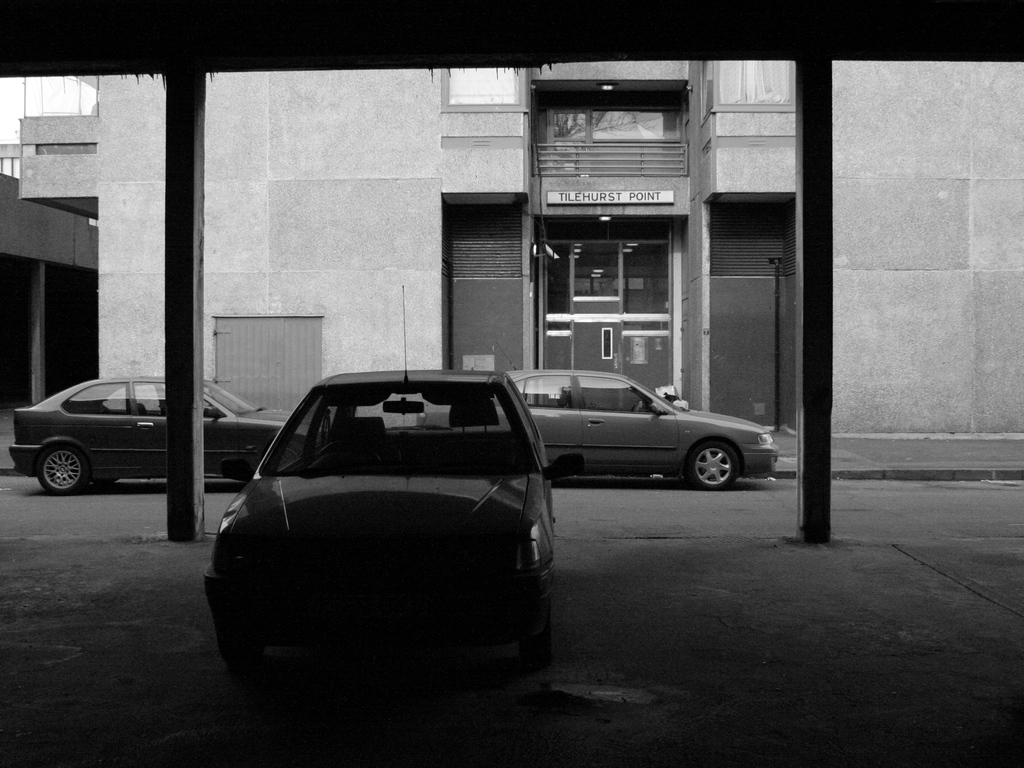Car: (198, 360, 563, 673), (469, 369, 765, 499), (5, 375, 286, 502)
